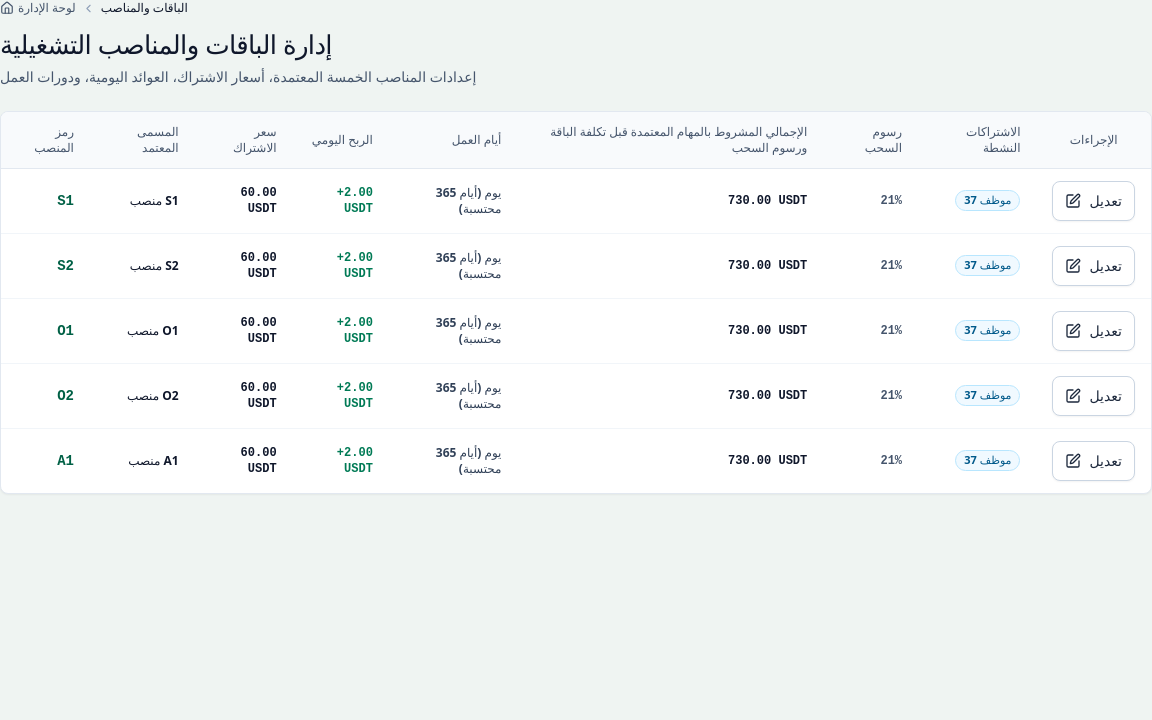
preserves authoritative counts and requires exact text, reason and distinct review before PATCH
This screenshot has width=1152, height=720.
Check: the column heading "الإجمالي المشروط بالمهام المعتمدة قبل تكلفة الباقة ورسوم السحب" is shown, box [517,112,823,168]
Click the button "تعديل" in the row of "منصب S1".
click(1094, 201)  # box [1052,181,1135,221]
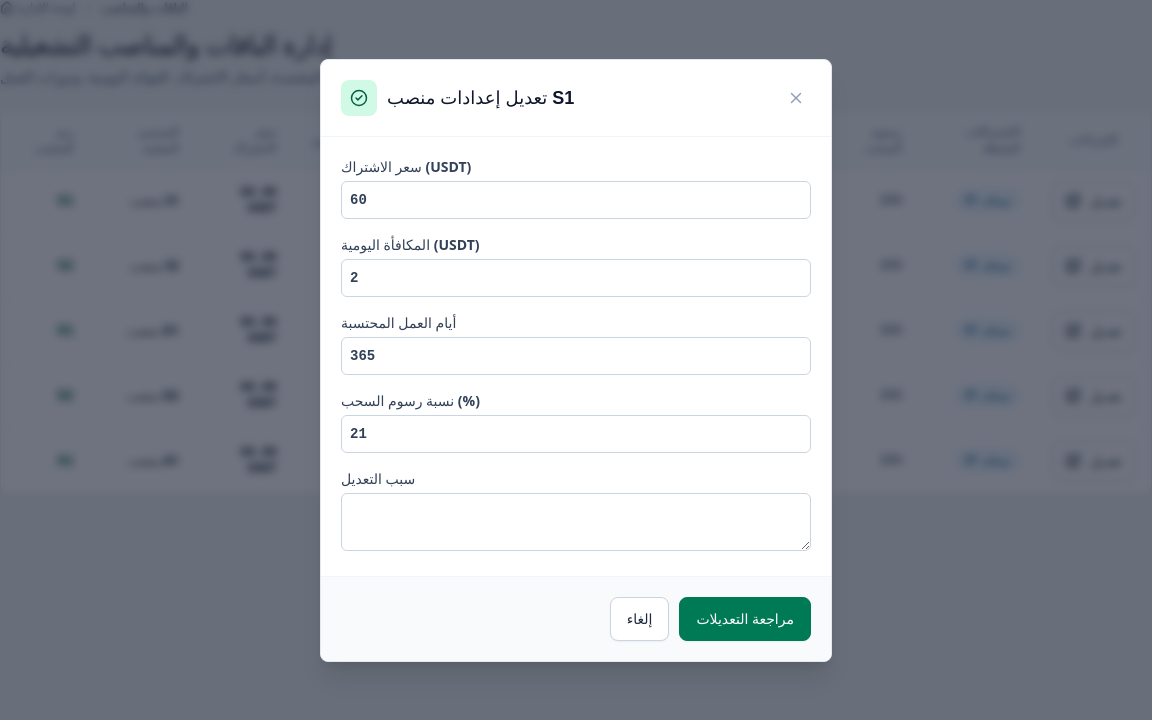
Check: the field labelled "سعر الاشتراك (USDT)" is shown
Replace the text in the field labelled "سعر الاشتراك (USDT)" with "61.000001" at (576, 200), box [341,180,811,218]
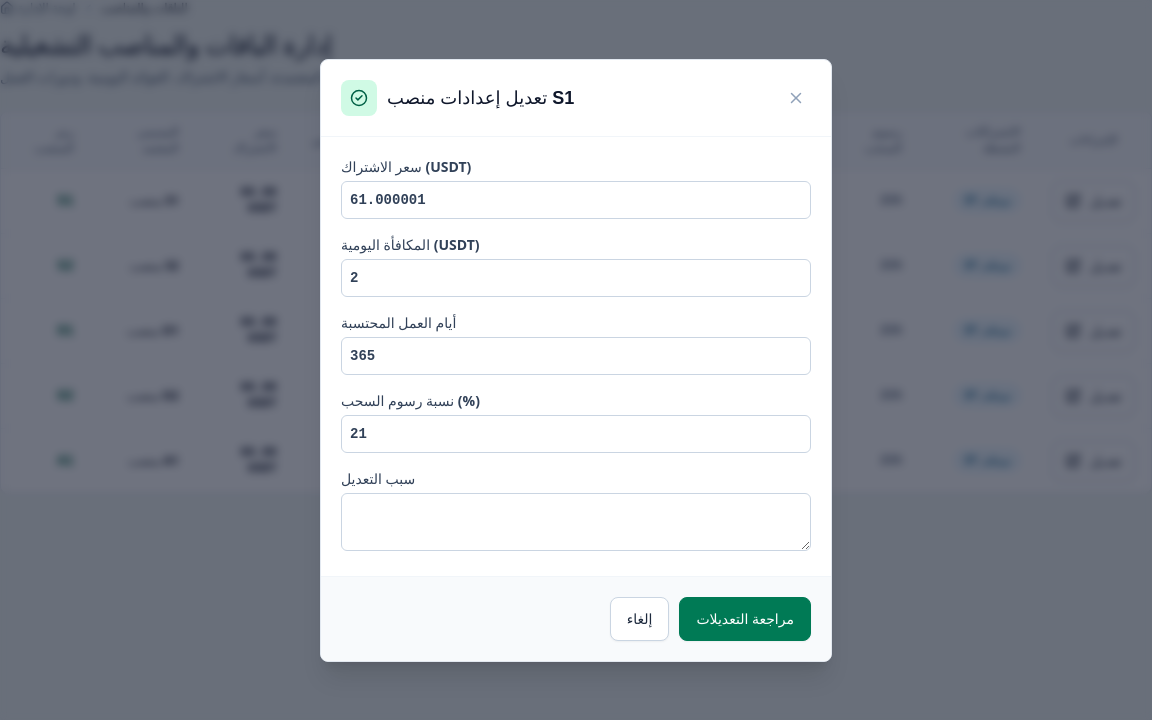
Type "Reviewed future terms" into the text box labelled "سبب التعديل".
click(576, 522); type("Reviewed future terms")  # box [341,492,811,550]
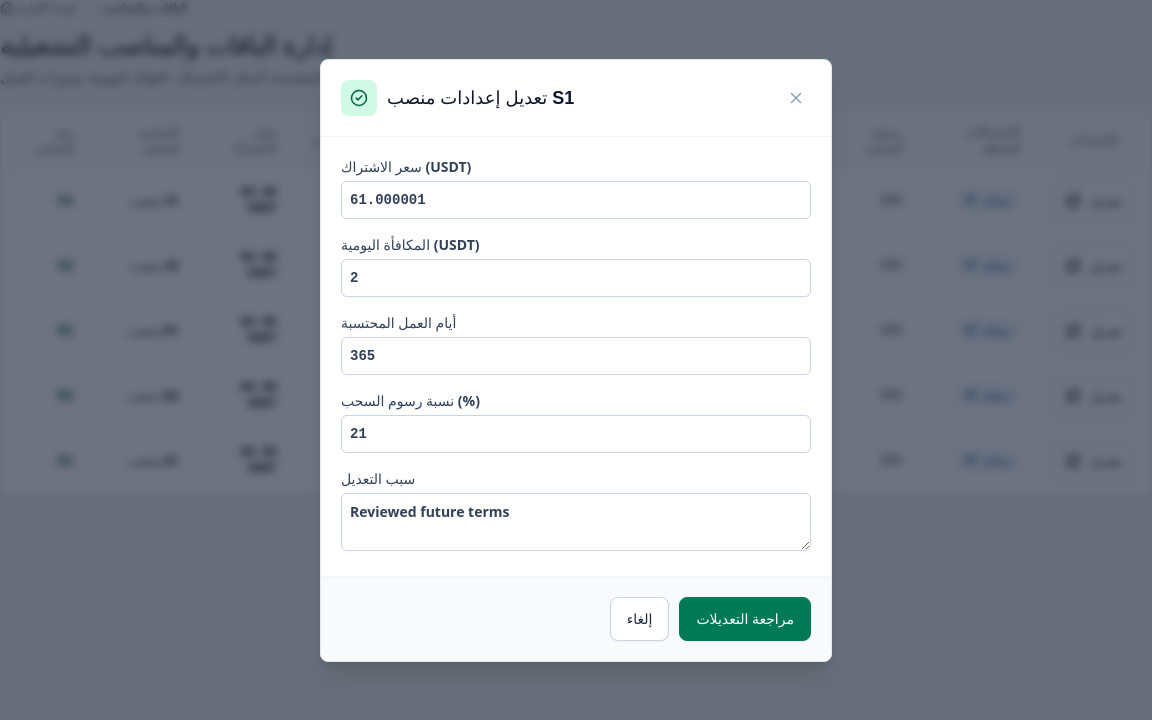
Click the button "مراجعة التعديلات".
click(745, 618)  # box [679,596,811,640]
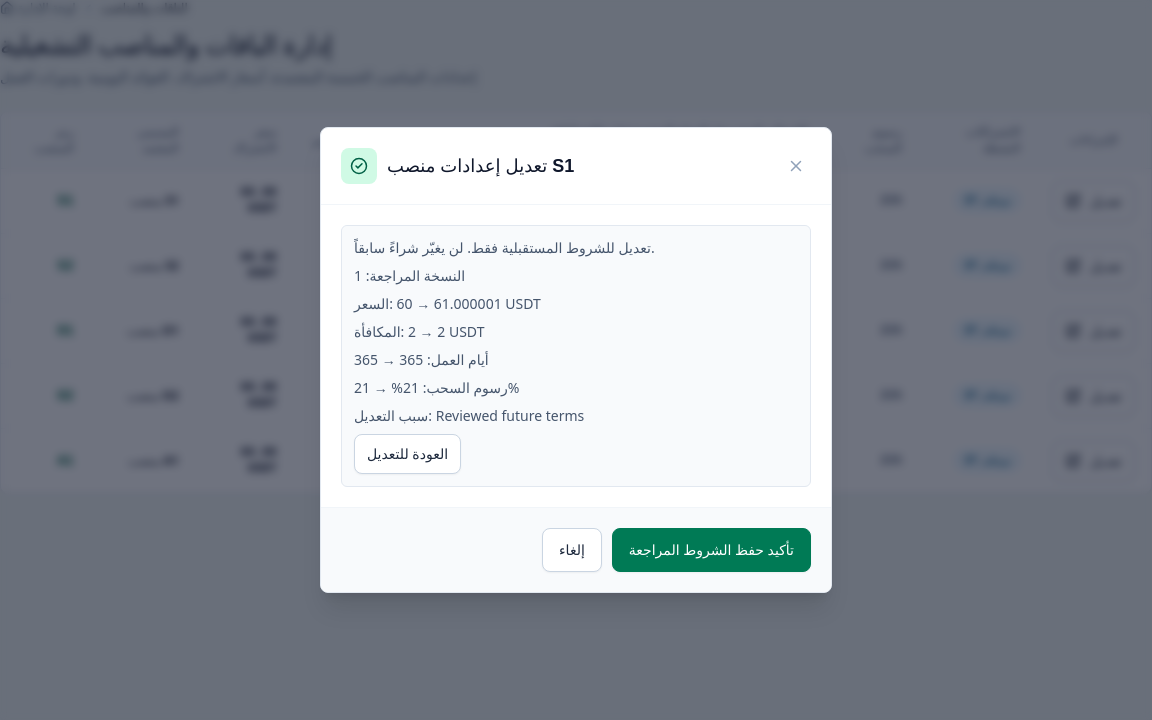
Check: the button "تأكيد حفظ الشروط المراجعة" is shown
Check: the dialog shows "61.000001", box [434,294,502,313]
Click the button "تأكيد حفظ الشروط المراجعة".
click(711, 550)  # box [612,528,811,572]
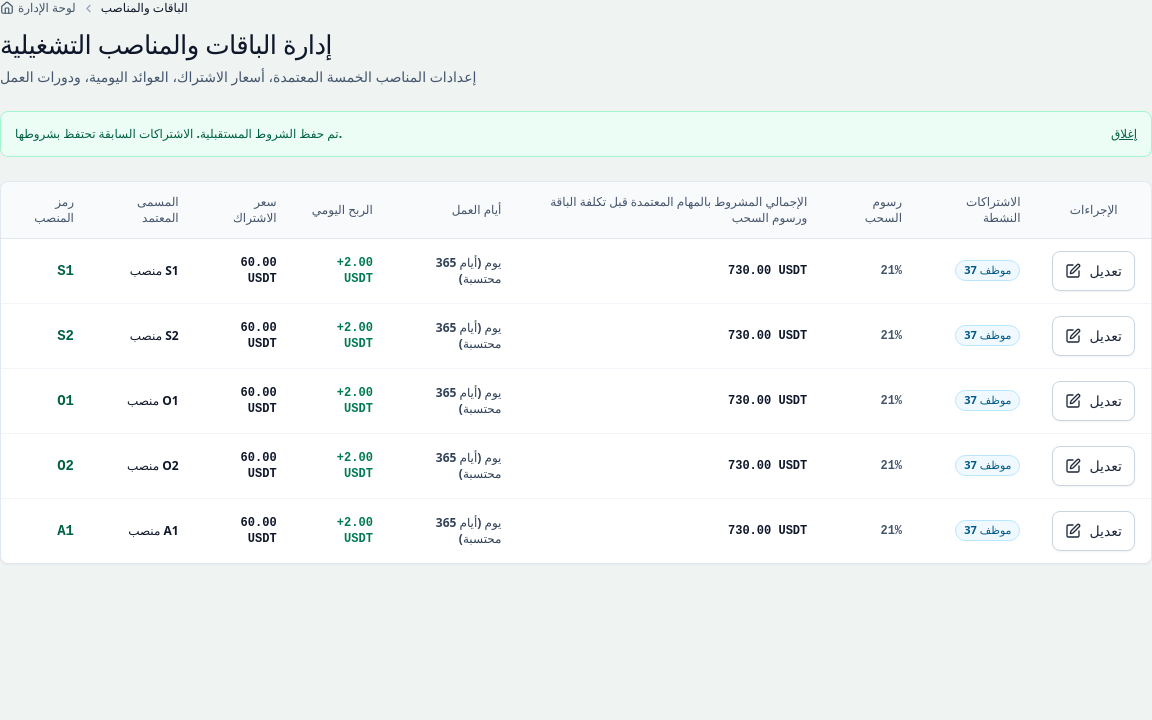
Check: the dialog is gone
